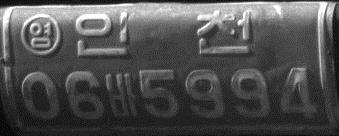0: (20, 71, 61, 121)
4: (277, 66, 320, 122)
5: (140, 68, 180, 121)
6: (64, 69, 105, 122)
9: (229, 68, 272, 119), (183, 69, 225, 120)
바: (104, 71, 140, 120)
영: (20, 13, 61, 55)
인천_D: (73, 7, 252, 56)
